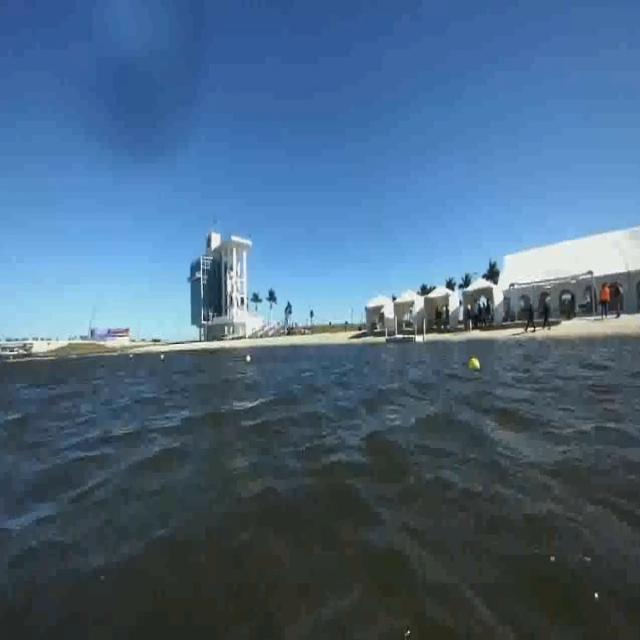yellow-buoy: (471, 356, 483, 372)
